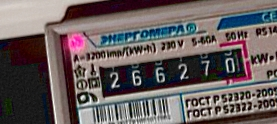0: (222, 54, 236, 76)
2: (106, 69, 123, 91), (176, 61, 190, 82)
6: (129, 68, 144, 89), (153, 64, 167, 85)
7: (198, 58, 213, 78)
screen: (84, 32, 263, 112)
